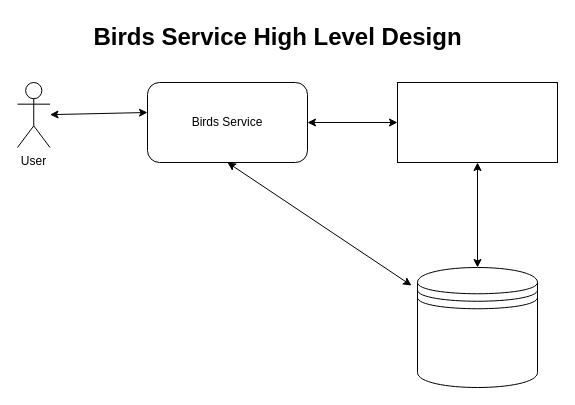
Image size: 575x405. Some labels were removed from this diagram. The centre of each missing label's shape, as x and y in pixels:
"Cache" belongs at pixel 477 122.
"Postgres" belongs at pixel 477 327.
